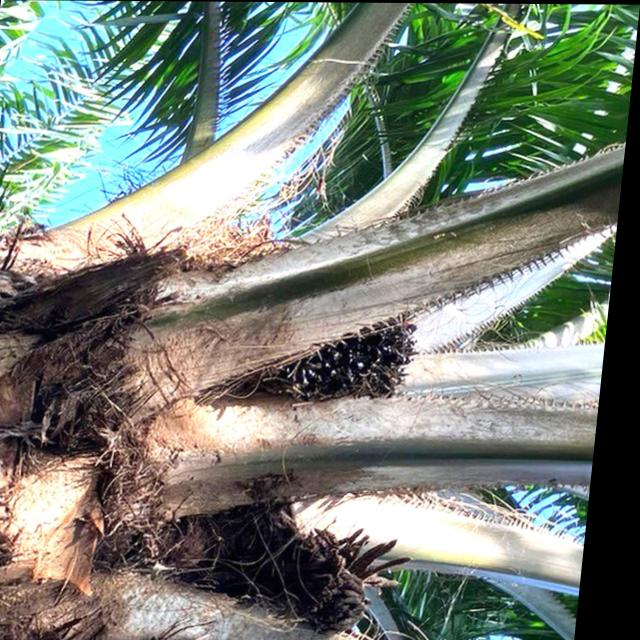unripe: (276, 326, 422, 397)
